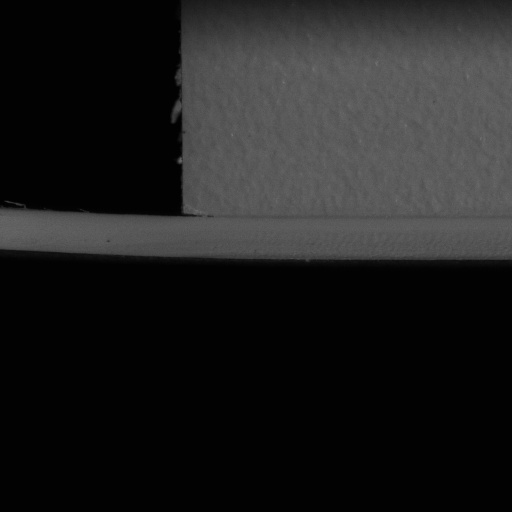changdai: (0, 208, 187, 262)
